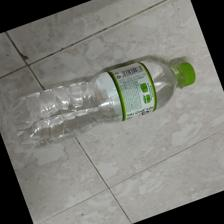Dasani: (5, 53, 196, 148)
